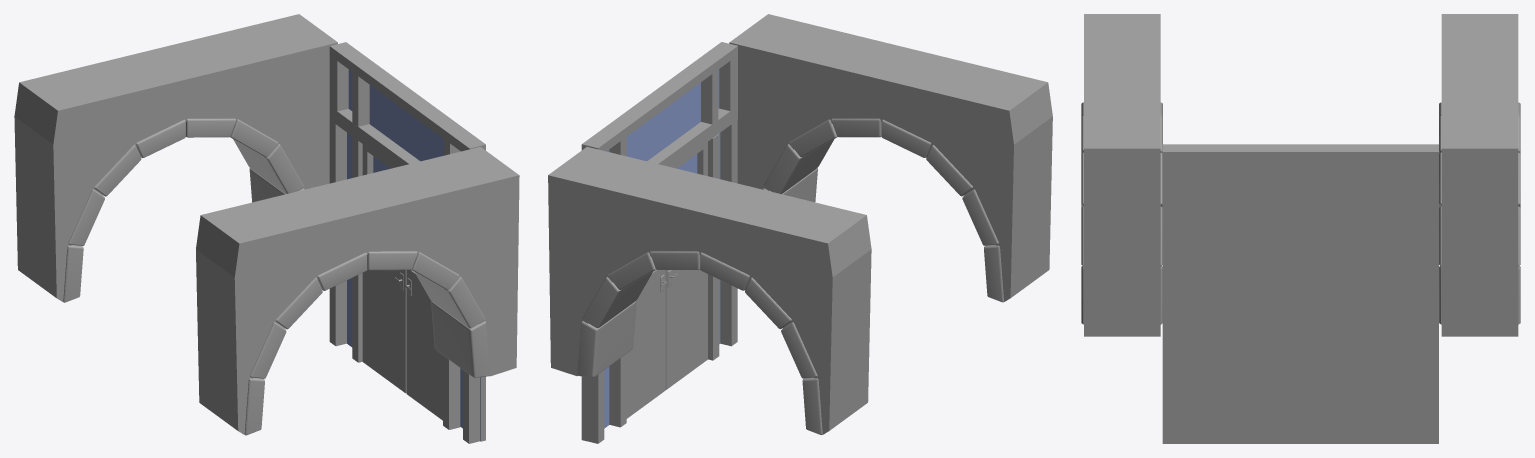
The model's file is Door_WArch.fbx.
The picture shows the model from 3 angles, left to right: view 1: azimuth 30°, elevation 25°; view 2: azimuth 150°, elevation 25°; view 3: azimuth 270°, elevation 25°; orthographic projection.
Parts seen in each view (by area): view 1: Door_WArch; view 2: Door_WArch; view 3: Door_WArch.
Boxes of the visible parts, bbox=[...] form: Door_WArch: bbox=[14, 14, 519, 443]; Door_WArch: bbox=[548, 14, 1052, 443]; Door_WArch: bbox=[1081, 14, 1520, 443].
Bounding box in the file's own units: 340 × 330 × 450.
